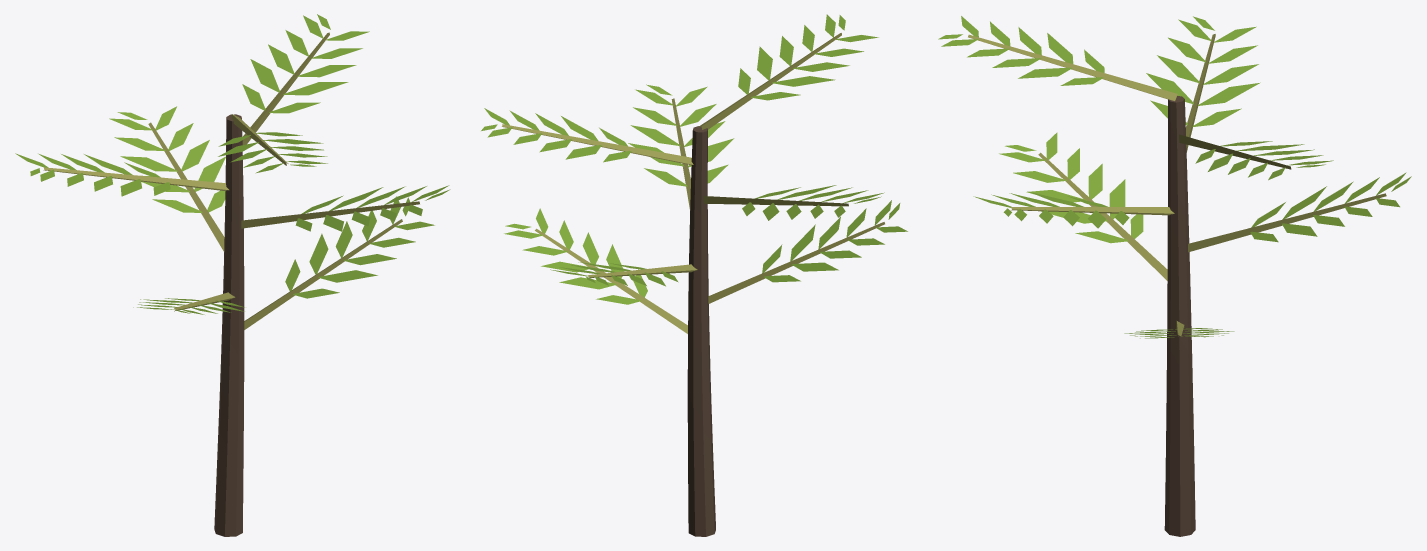
3 views of the same model, side by side, from view 1: azimuth 30°, elevation 25°; view 2: azimuth 150°, elevation 25°; view 3: azimuth 270°, elevation 25° (orthographic). The views are drawn at different scales.
Visible parts, largest first — view 1: body; view 2: body; view 3: body.
Part boxes in pixels (<box>): body: <box>15,14,450,536</box>; body: <box>481,14,907,536</box>; body: <box>938,16,1411,536</box>.
Size of the model in its own units: 0.4856 by 0.55 by 0.4964.
1 material, 1 textured.
